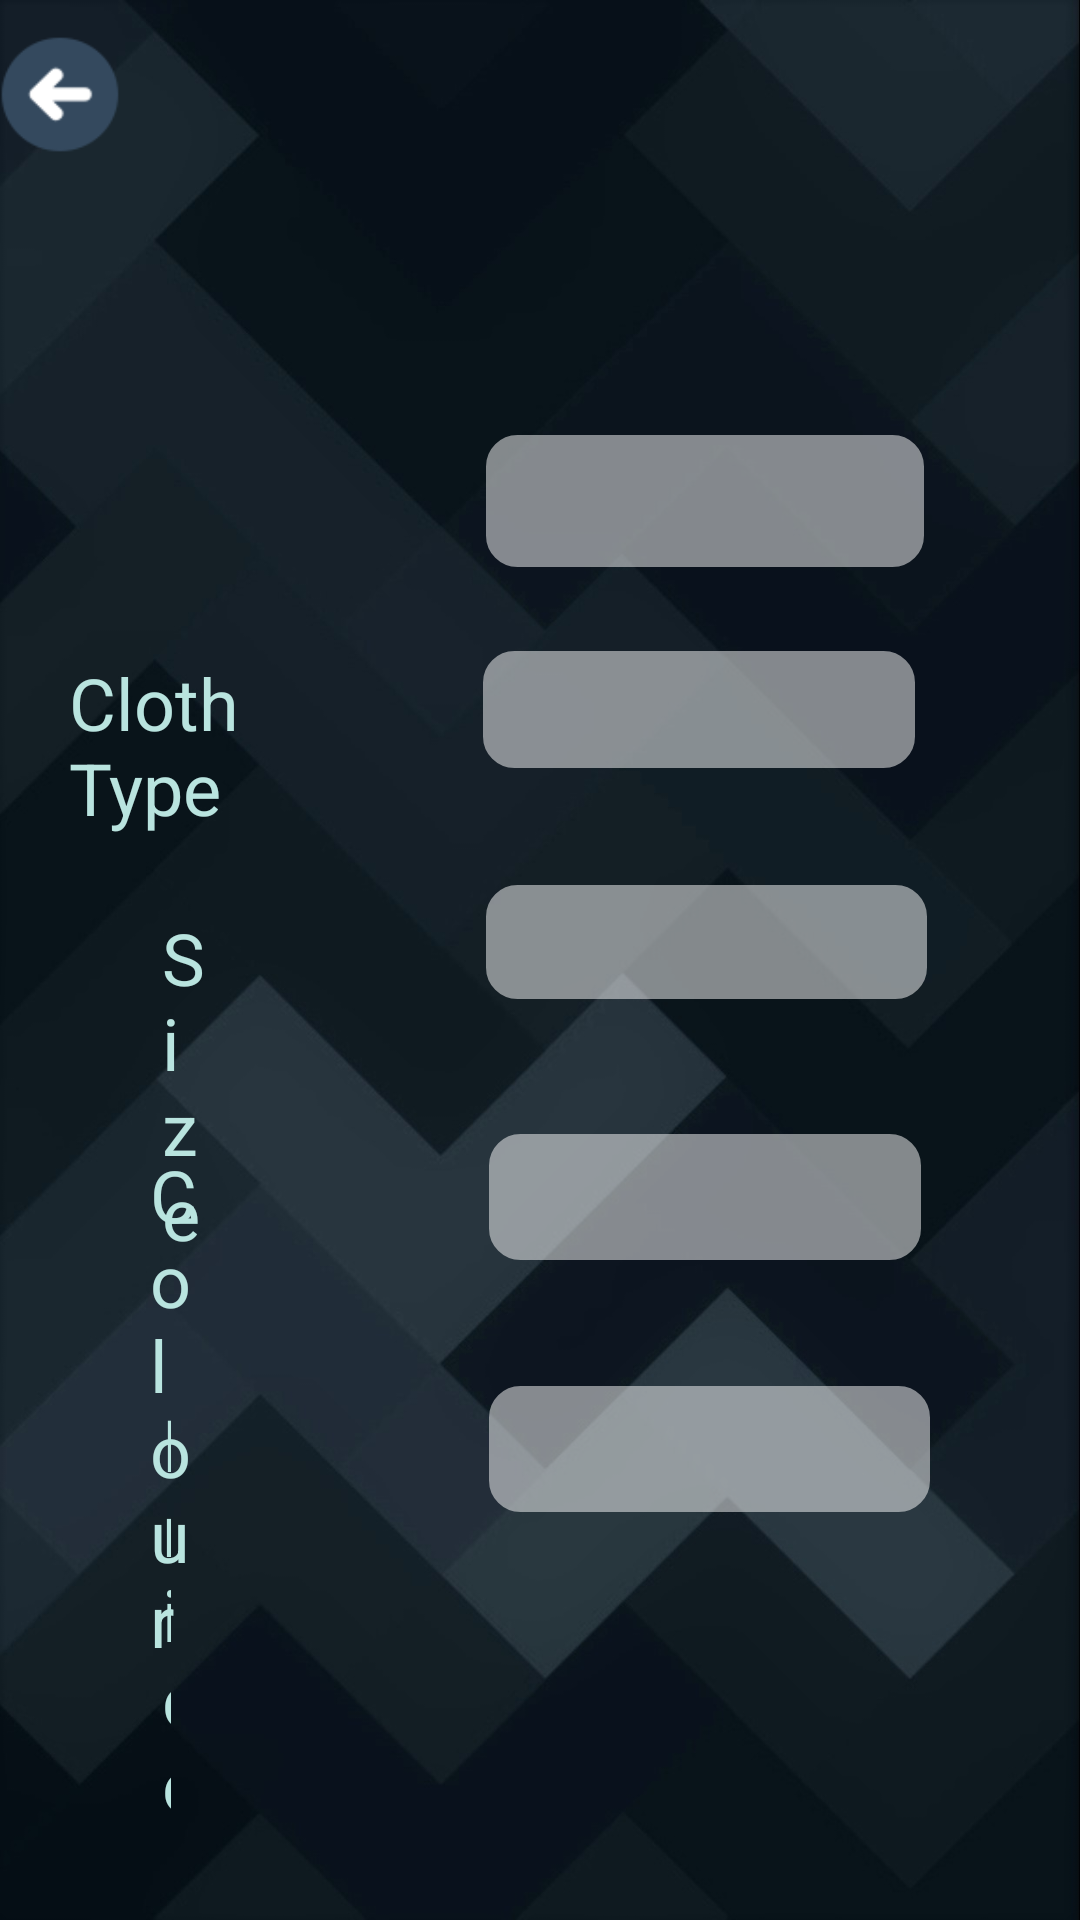

Icon bounding boxes for this 1080 x 1920 phone screenshot, format (x1, y1, x2, y2):
Back: (2, 38, 118, 151)
